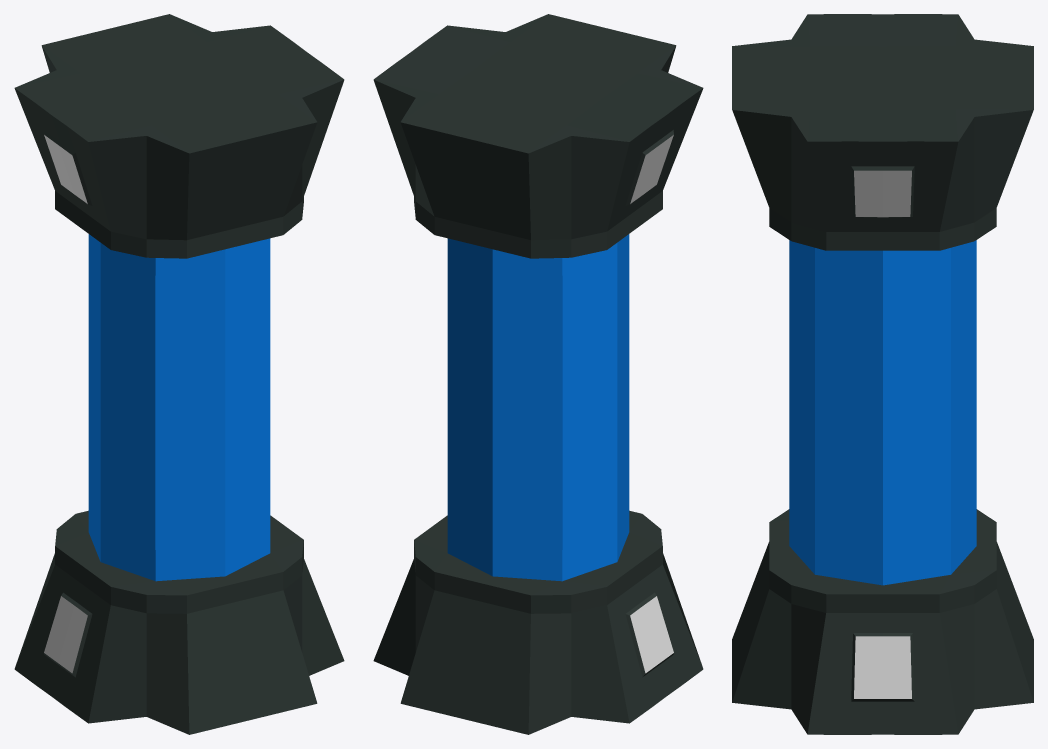
File: Experiment_tank.fbx
The picture shows the model from 3 angles, left to right: view 1: azimuth 30°, elevation 25°; view 2: azimuth 150°, elevation 25°; view 3: azimuth 270°, elevation 25°; orthographic projection.
Parts seen in each view (by area): view 1: Experiment_tank; view 2: Experiment_tank; view 3: Experiment_tank.
Part boxes in pixels (left/top/right/bottom): Experiment_tank: left=14, top=14, right=344, bottom=734; Experiment_tank: left=373, top=14, right=703, bottom=734; Experiment_tank: left=732, top=14, right=1033, bottom=734.
Bounding box in the file's own units: 265 × 576 × 265.
